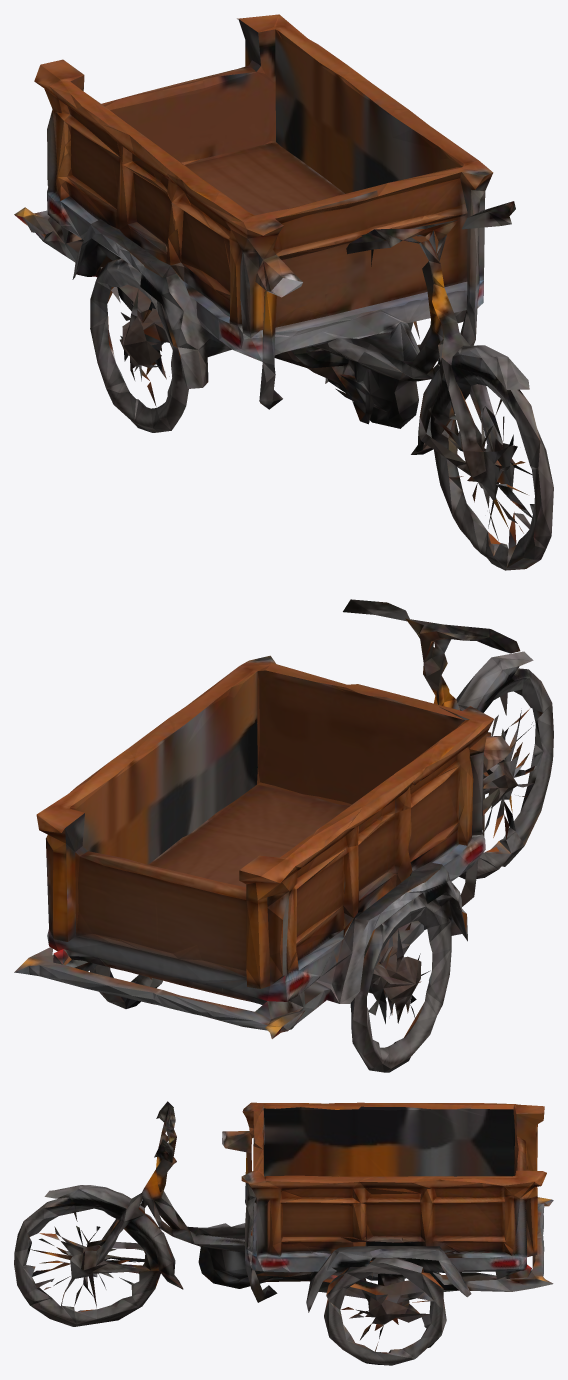
File: bj89_cargo_tricycle.glb
The picture shows the model from 3 angles, top to bottom: view 1: azimuth 30°, elevation 25°; view 2: azimuth 150°, elevation 25°; view 3: azimuth 270°, elevation 25°; orthographic projection. The views are drawn at different scales.
Parts seen in each view (by area): view 1: bj89_cargo_tricycle_tex; view 2: bj89_cargo_tricycle_tex; view 3: bj89_cargo_tricycle_tex.
Part boxes in pixels (x1,y1,x2,y2): bj89_cargo_tricycle_tex: (14,14,553,570); bj89_cargo_tricycle_tex: (14,599,553,1072); bj89_cargo_tricycle_tex: (14,1101,553,1365).
Bounding box in the file's own units: 0.9619 × 0.9536 × 2.3.
1 material, 1 textured.
